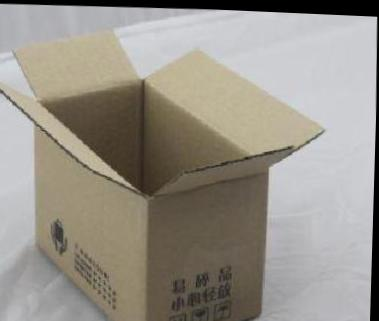cardboard: (0, 6, 323, 319)
